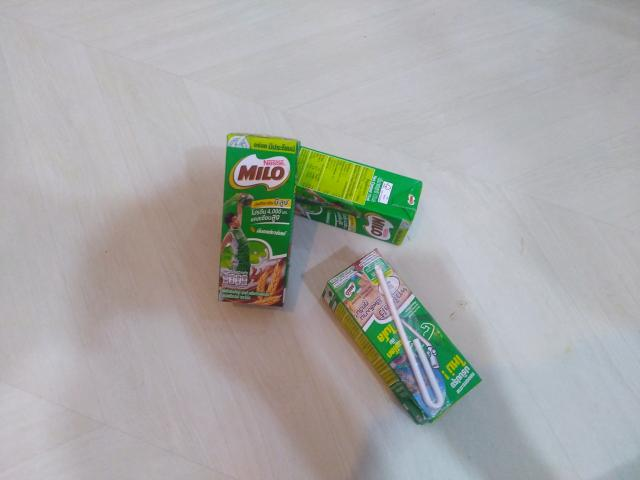drink_box: (322, 250, 480, 424), (219, 134, 300, 306), (295, 146, 422, 245)
